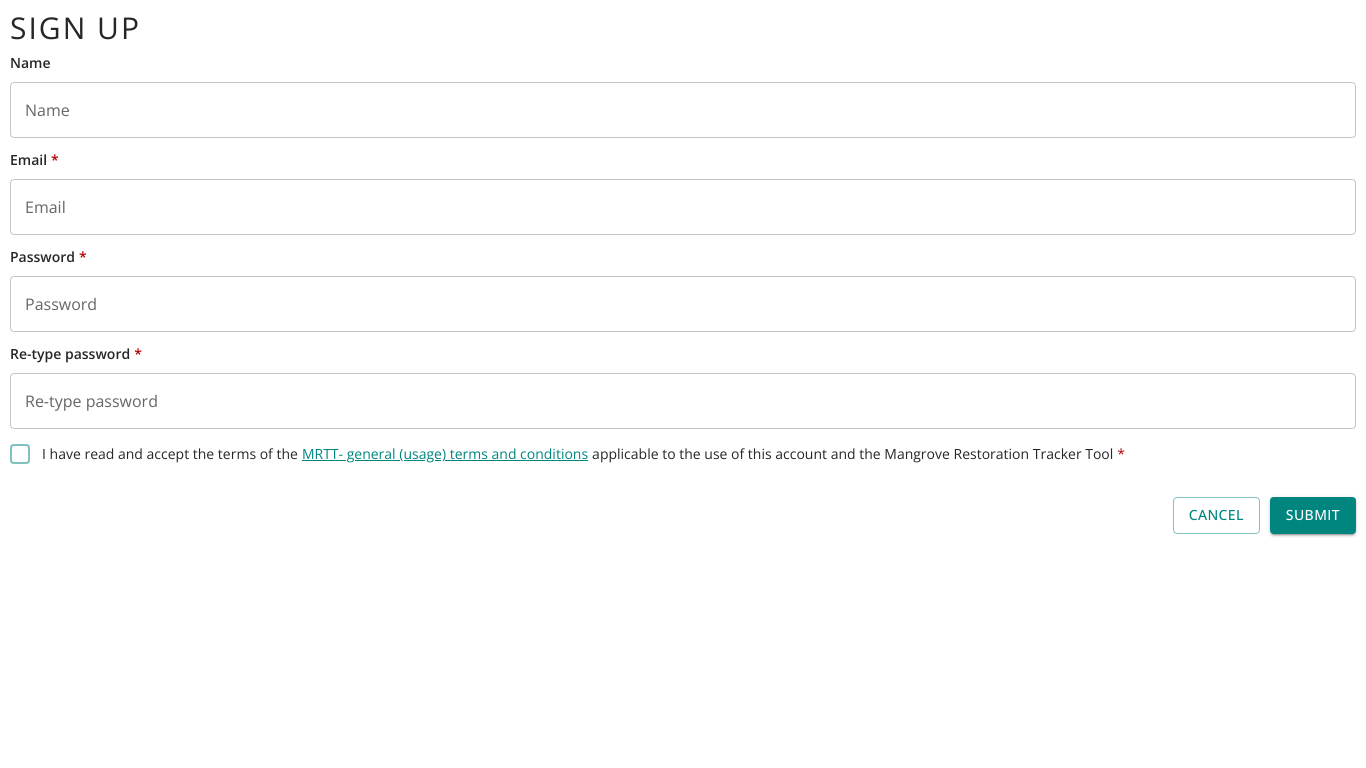
Test case: SignupForm › explains what is missing before sending anything
Type "longenough" into the password field labelled "Password *" at (683, 304), box x1=10 y1=276 x2=1356 y2=332
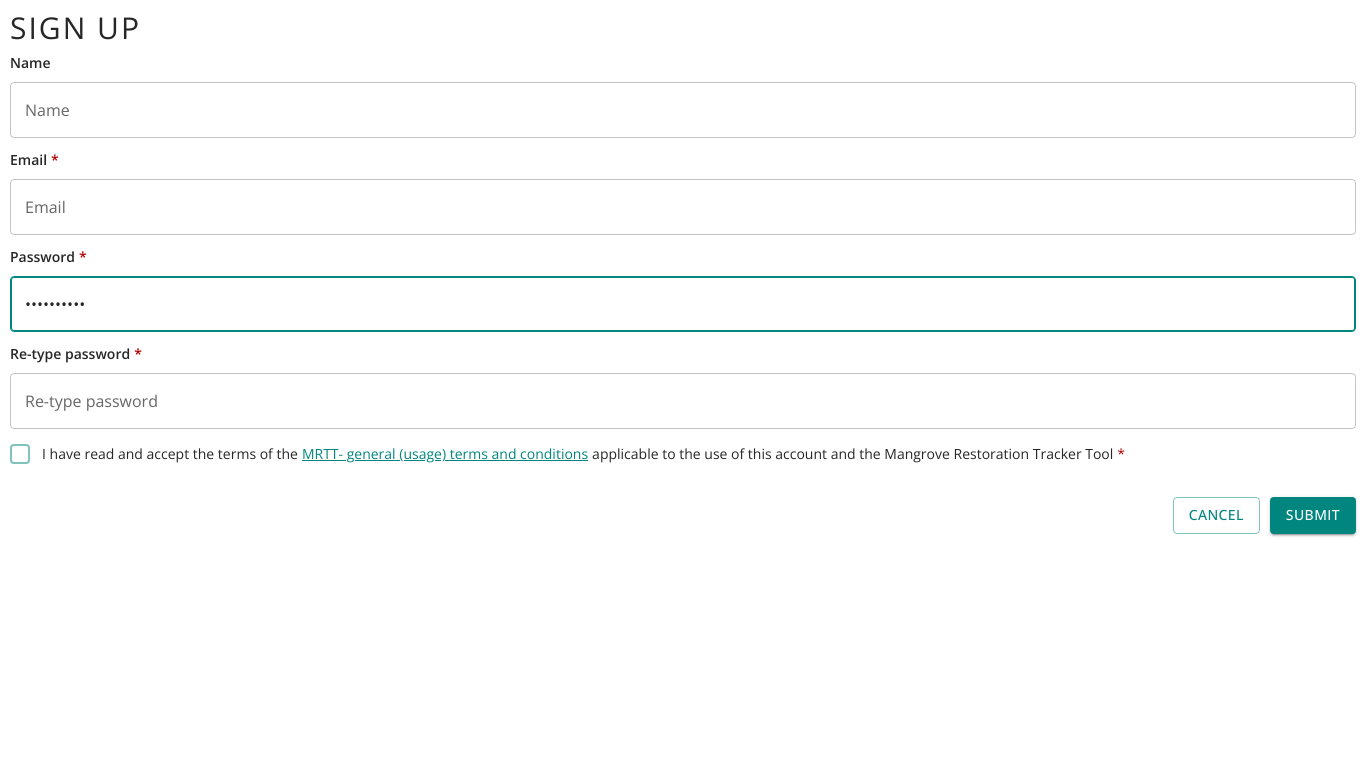
Type "different" into the password field labelled "Re-type password *" at (683, 401), box x1=10 y1=373 x2=1356 y2=429
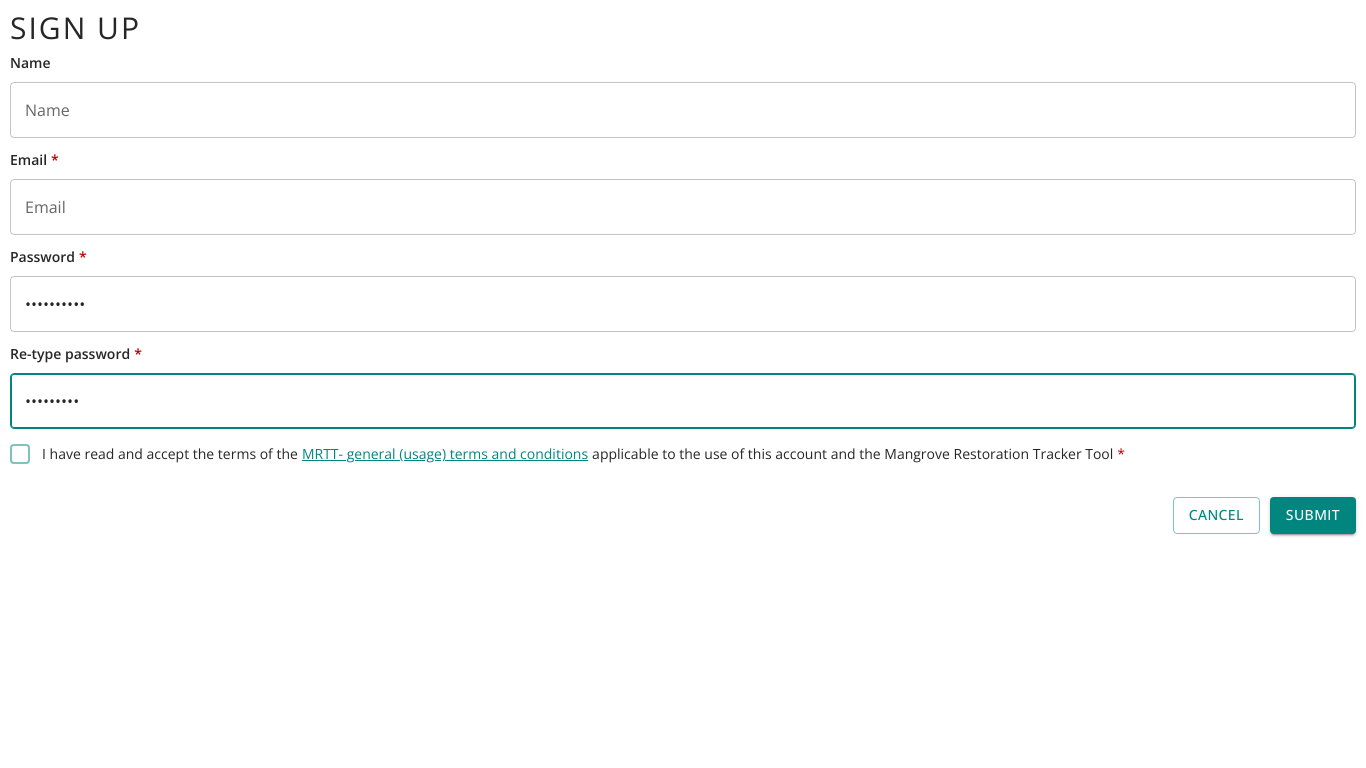
Click the button "Submit" at (1313, 516), box x1=1270 y1=497 x2=1356 y2=534
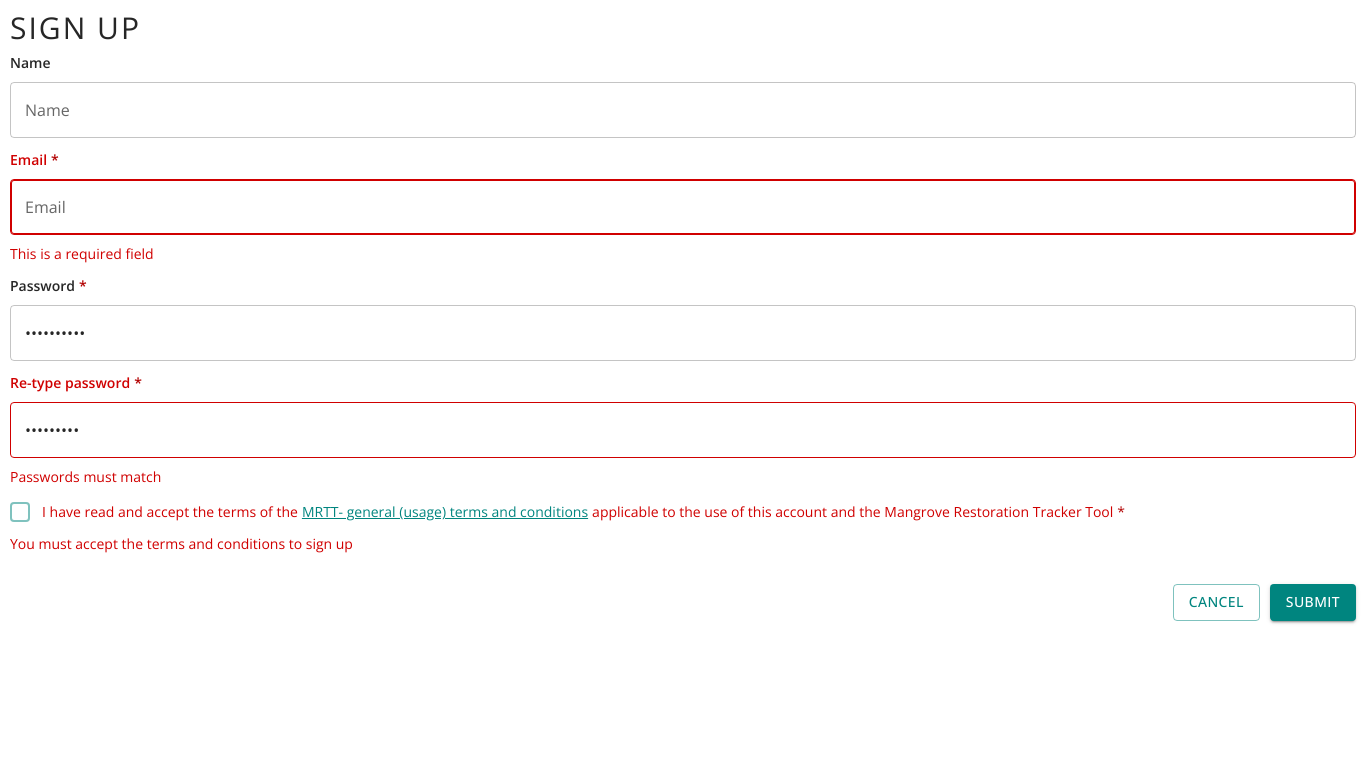
Expected: the text "This is a required field" is shown, x1=10 y1=244 x2=154 y2=263
Expected: the text "Passwords must match" is shown, x1=10 y1=467 x2=161 y2=486
Expected: the text "You must accept the terms and conditions to sign up" is shown, x1=10 y1=534 x2=353 y2=553
